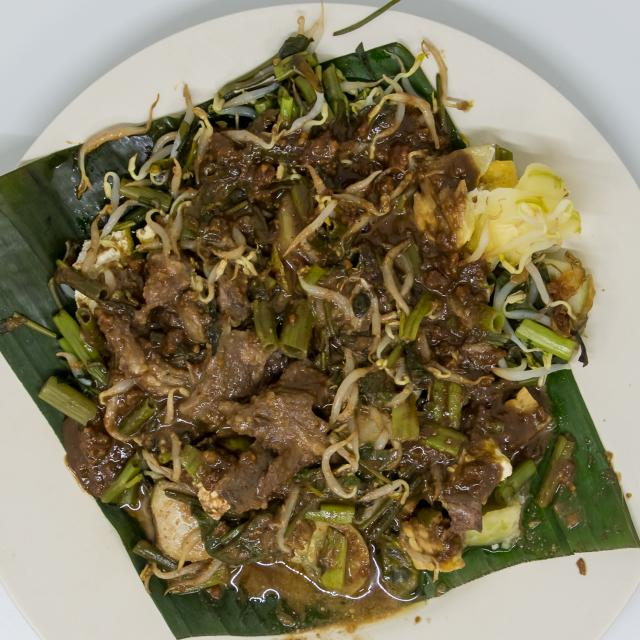Rujak-Cingur: (44, 40, 592, 604)
